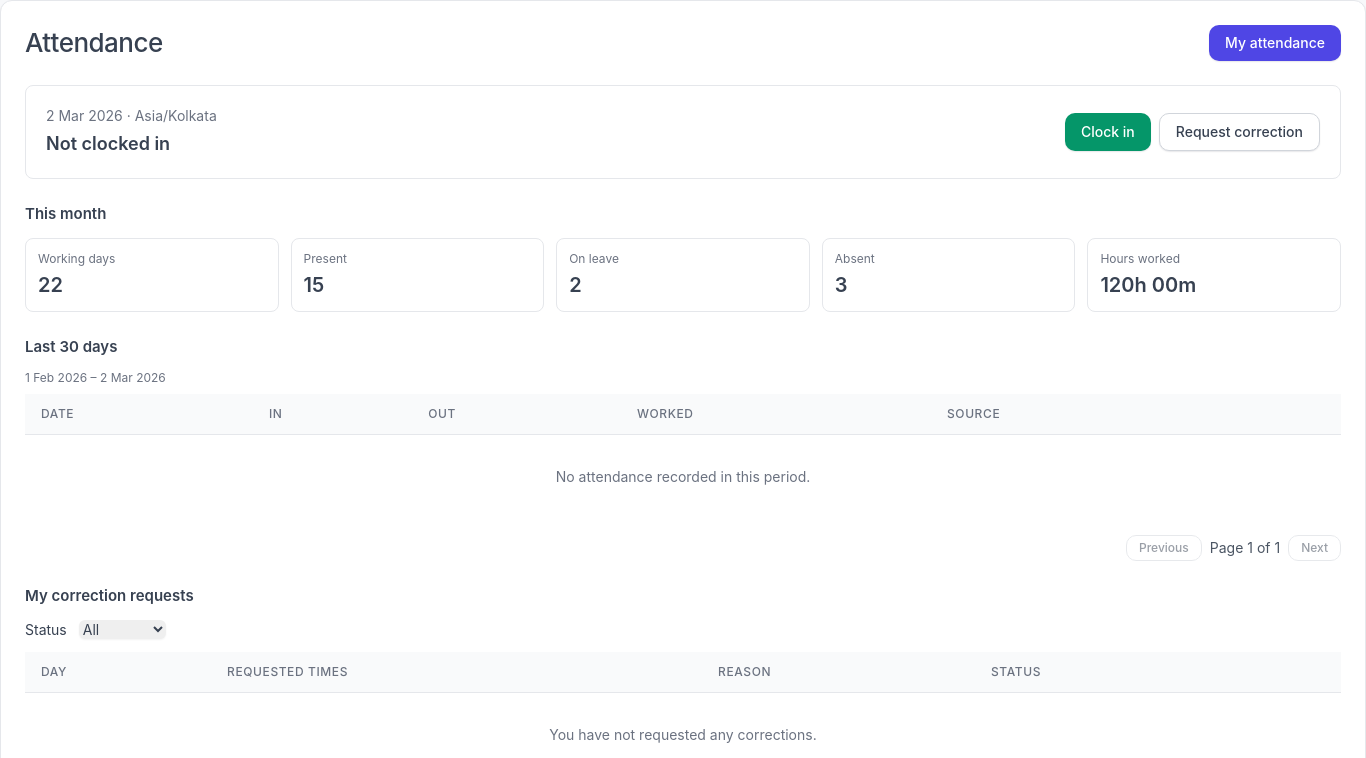
Test case: Attendance page › clocking › shows the server error when clocking fails and keeps the page usable
Expected: the text "Not clocked in" is shown, [46,133,170,154]
Click the button "Clock in": x=1108, y=132 [1065,113,1151,151]
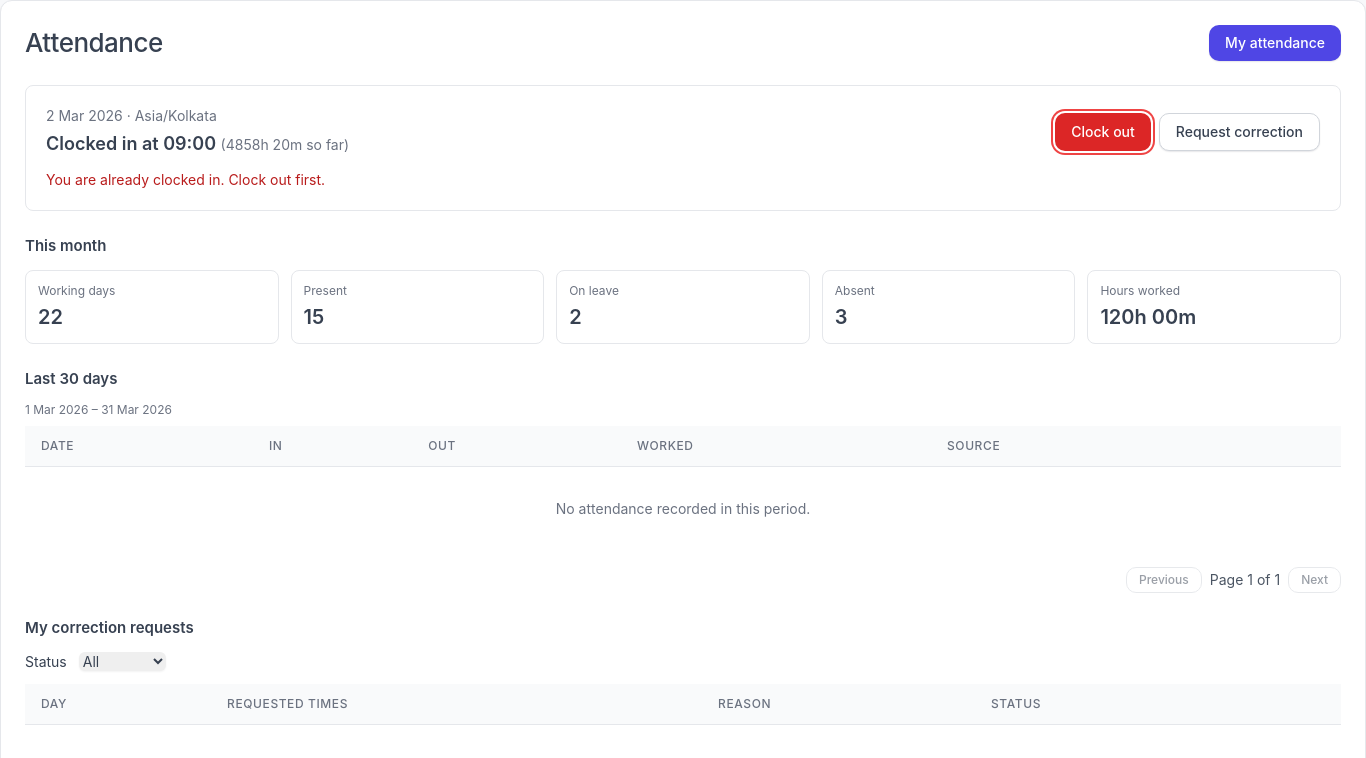
Result: the button "Clock out" is shown at [1055,113,1151,151]
Result: the message reads "You are already clocked in. Clock out first." at [46,171,325,188]
